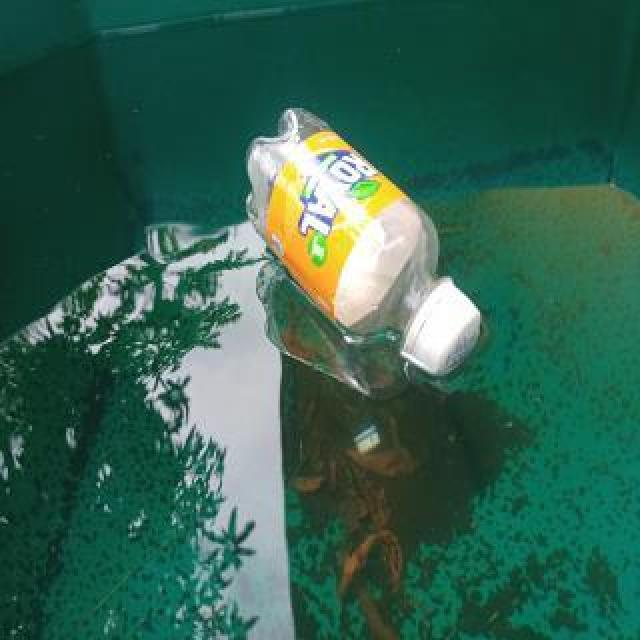bottle: (236, 96, 486, 386)
